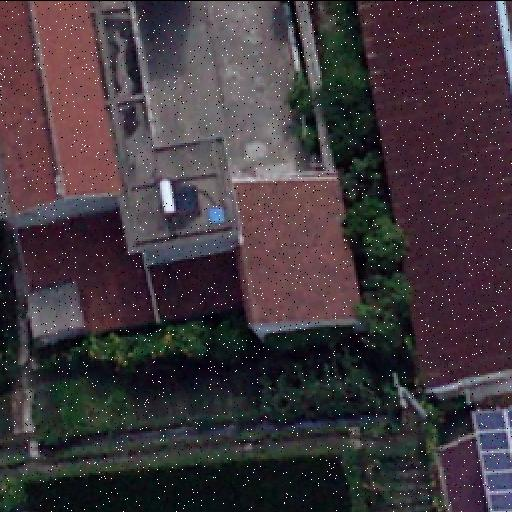solar-panel: (472, 409, 512, 511)
